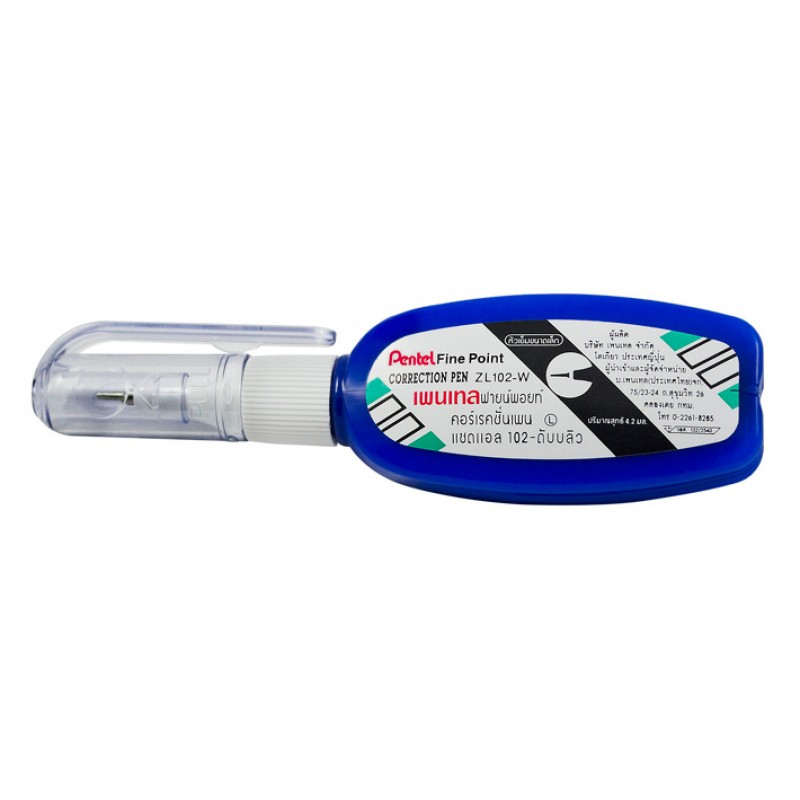Correction_fluid: (23, 287, 769, 510)
